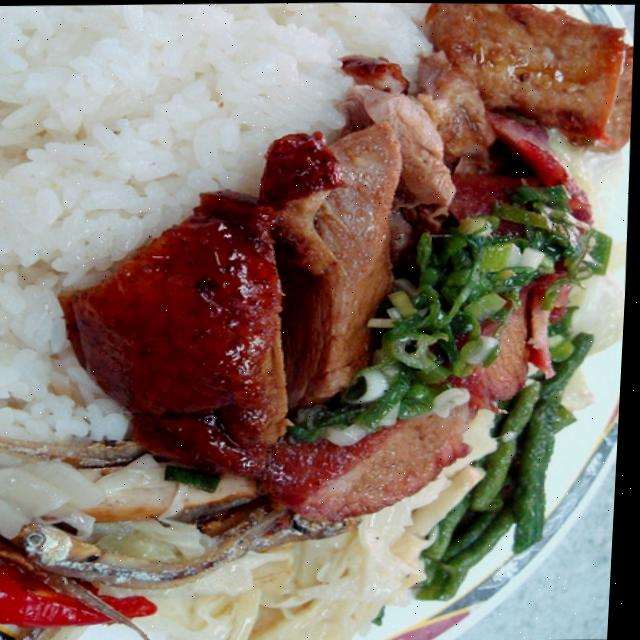米饭主食: (0, 23, 630, 606)
